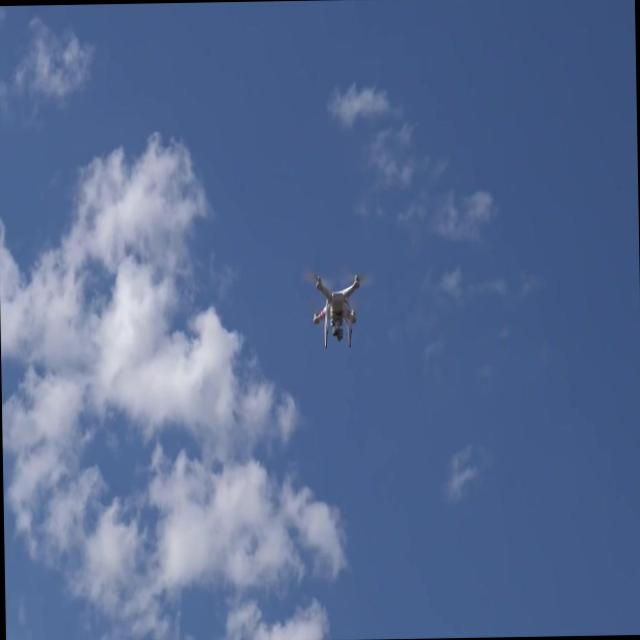drone: (304, 270, 374, 348)
